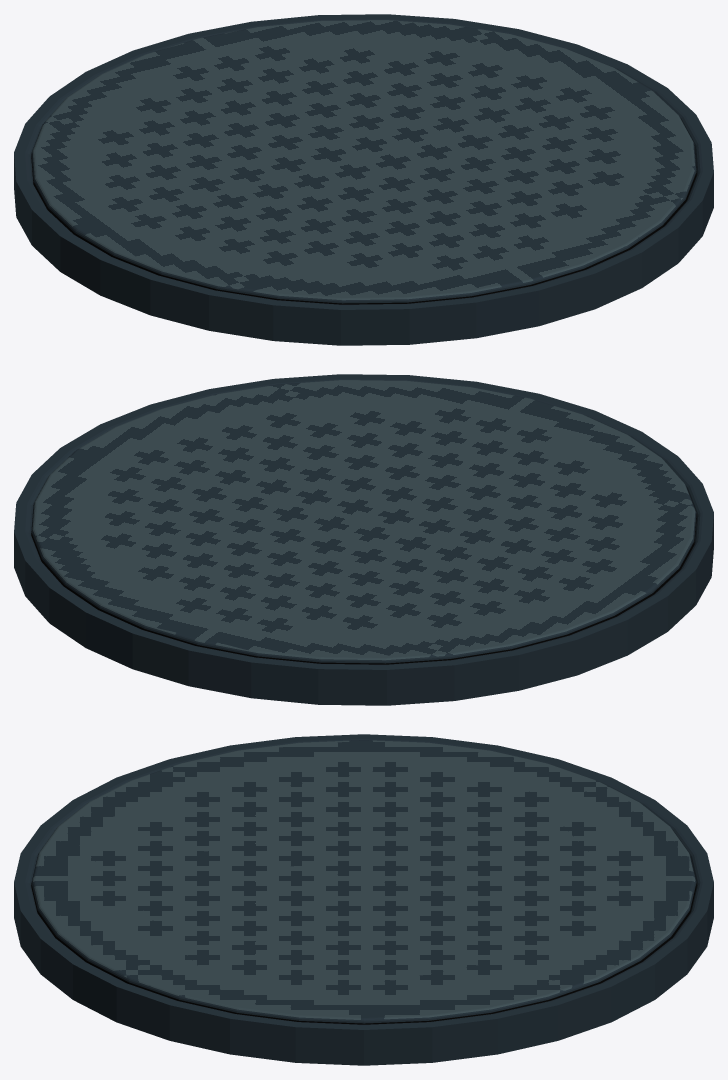
The picture shows the model from 3 angles, top to bottom: view 1: azimuth 30°, elevation 25°; view 2: azimuth 150°, elevation 25°; view 3: azimuth 270°, elevation 25°; orthographic projection.
Visible parts, largest first — view 1: 柱体, 柱体.001, 柱体.002; view 2: 柱体, 柱体.001, 柱体.002; view 3: 柱体, 柱体.001, 柱体.002.
Part boxes in pixels (x1,y1,x2,y2): 柱体: [31, 20, 696, 303]; 柱体.001: [14, 14, 713, 345]; 柱体.002: [31, 145, 696, 304]; 柱体: [31, 380, 696, 663]; 柱体.001: [14, 374, 713, 705]; 柱体.002: [31, 505, 696, 664]; 柱体: [31, 740, 696, 1023]; 柱体.001: [14, 734, 713, 1065]; 柱体.002: [31, 883, 696, 1024].
Bounding box in the file's own units: 2 × 0.1218 × 2.
3 materials, 2 textured.
